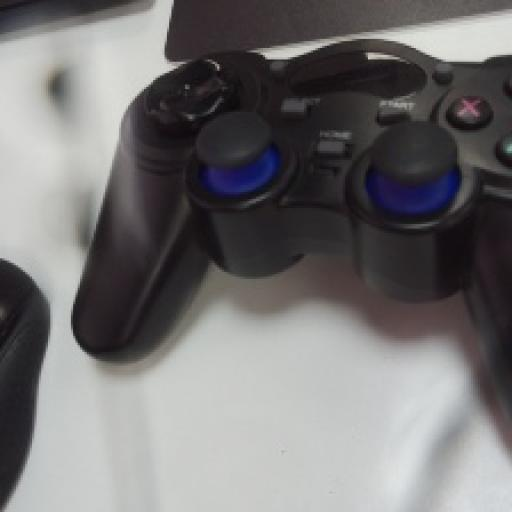game pad: (75, 41, 510, 366)
